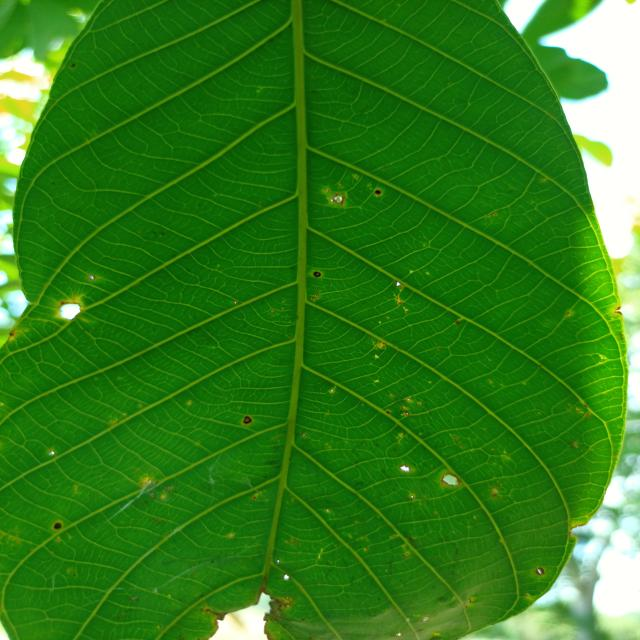Colletotrichum: (534, 567, 544, 575), (244, 416, 252, 424), (313, 272, 321, 278), (375, 190, 381, 195)
